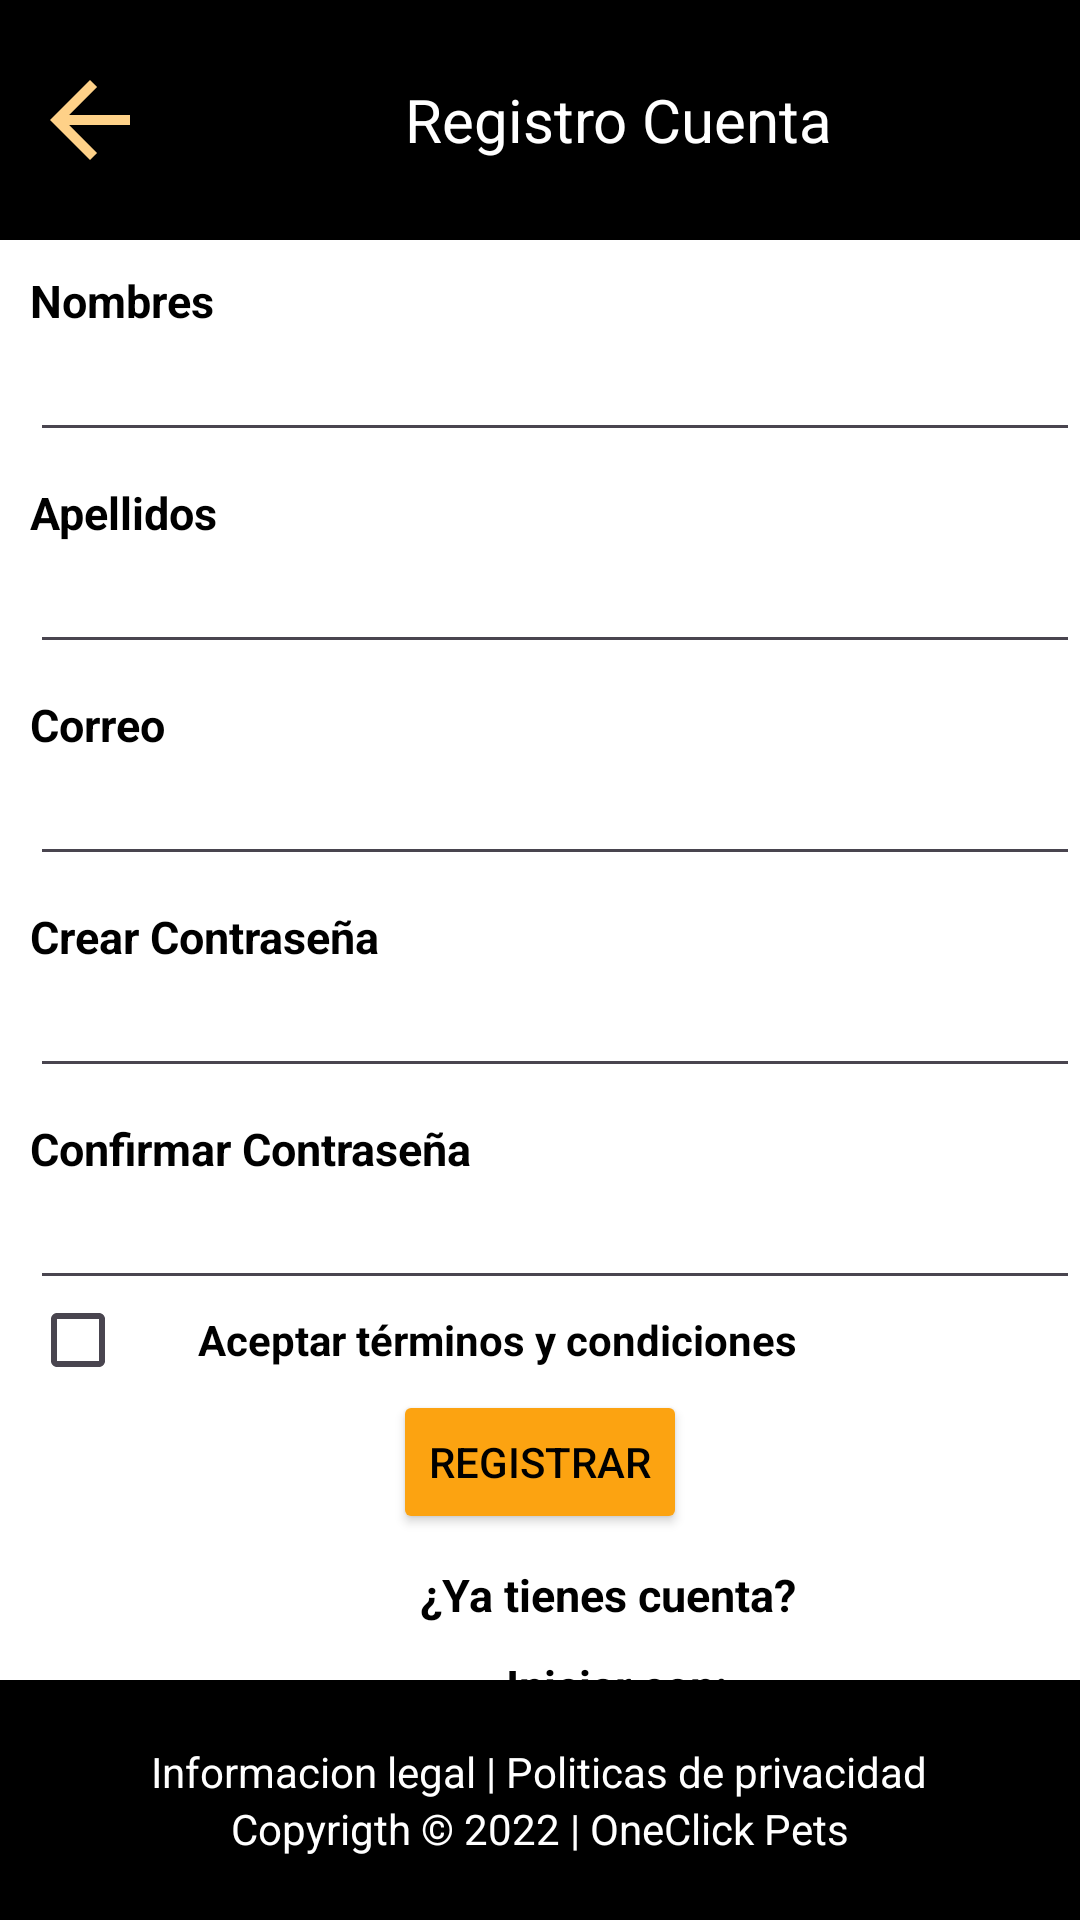

Screen size 1080px×1920px. Icon name, then its center in pixels as (x,y):
atras: (90,120)
